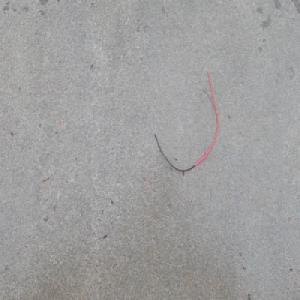Wire: (147, 65, 219, 173)
